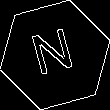N_S: (29, 26, 81, 84)
